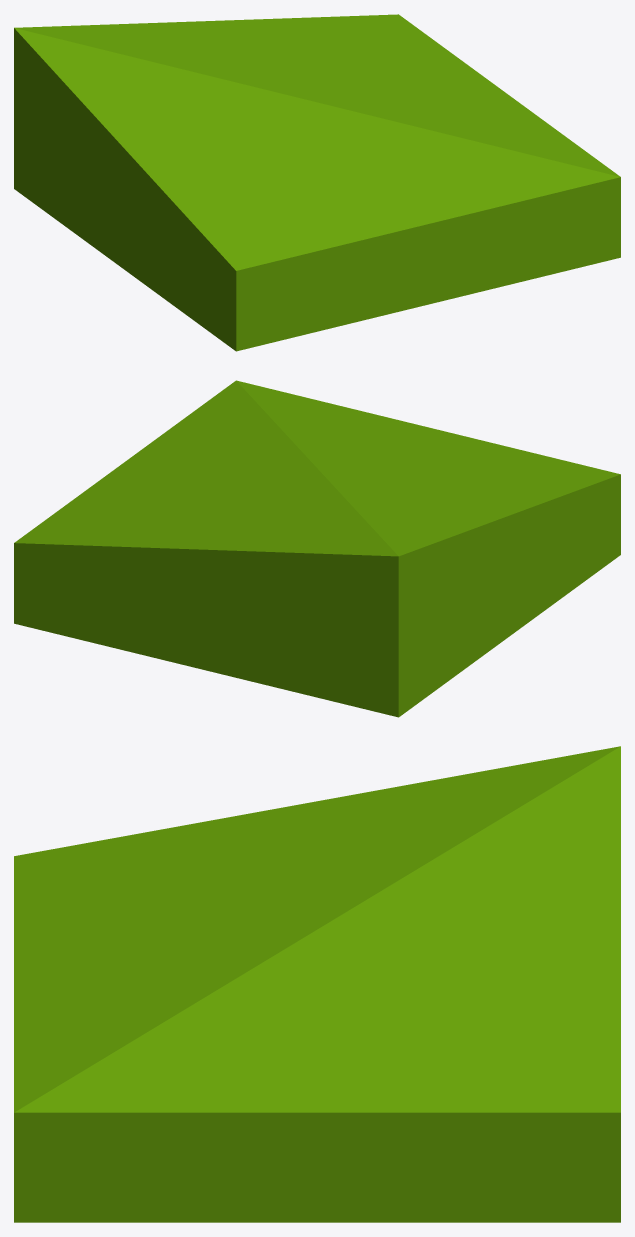
Rendered from TileGround_46.fbx.
The picture shows the model from 3 angles, top to bottom: view 1: azimuth 30°, elevation 25°; view 2: azimuth 150°, elevation 25°; view 3: azimuth 270°, elevation 25°; orthographic projection. The views are drawn at different scales.
Parts seen in each view (by area): view 1: TileGround_46; view 2: TileGround_46; view 3: TileGround_46.
Part boxes in pixels (x1=…): TileGround_46: x1=14, y1=14, x2=620, y2=351; TileGround_46: x1=14, y1=380, x2=620, y2=717; TileGround_46: x1=14, y1=746, x2=620, y2=1222.
Size of the model in its own units: 500 by 200 by 500.
